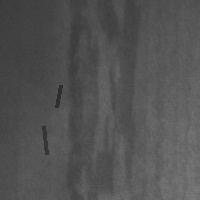inclusion: (69, 1, 140, 200), (41, 124, 48, 156), (54, 83, 62, 109)
